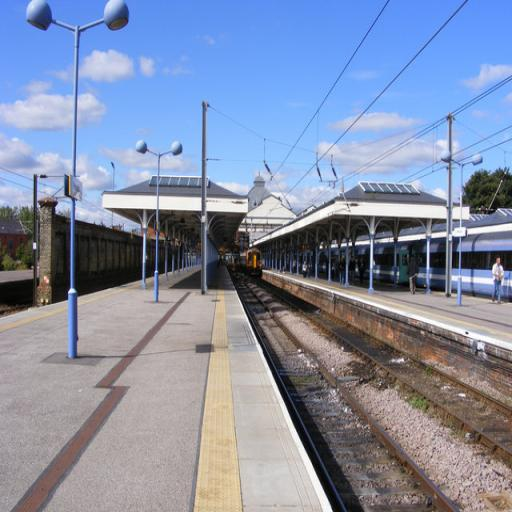platform_edge: (173, 301, 303, 512)
